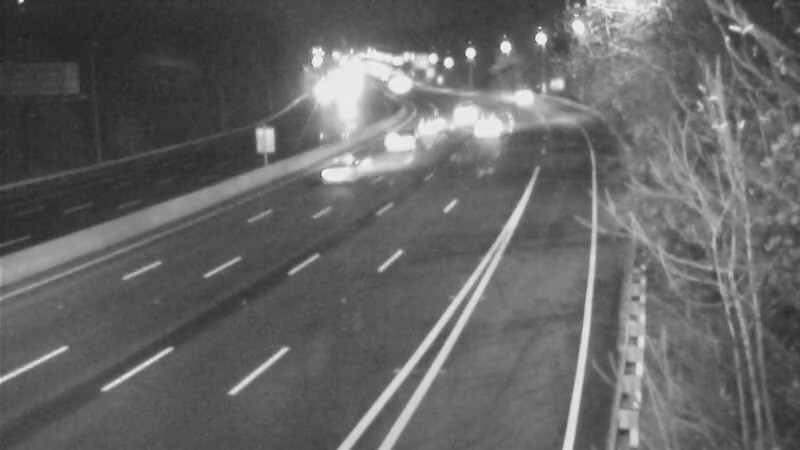vehicle: (299, 130, 379, 210), (493, 71, 543, 121), (437, 88, 487, 138), (408, 95, 458, 145), (462, 103, 512, 153), (376, 114, 426, 164)
